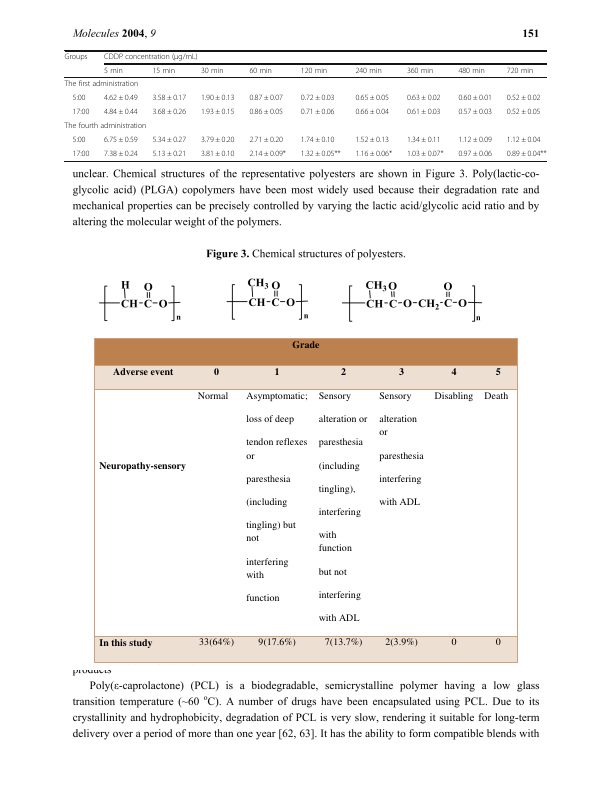bordered: (93, 337, 517, 662)
borderless: (63, 49, 547, 161)
cell: (245, 389, 309, 604), (318, 389, 368, 624), (378, 389, 425, 508), (98, 458, 187, 472), (112, 364, 174, 378), (103, 53, 199, 62), (64, 121, 147, 131), (64, 79, 139, 89), (98, 635, 154, 648), (434, 389, 474, 402), (257, 635, 297, 648), (324, 635, 363, 648), (198, 635, 235, 648), (384, 635, 419, 648), (197, 389, 229, 402), (300, 149, 341, 159), (506, 149, 547, 159), (291, 337, 320, 351), (248, 149, 287, 159), (354, 149, 393, 159), (406, 149, 444, 159), (103, 93, 139, 103), (151, 93, 187, 103), (248, 93, 284, 103), (354, 93, 390, 103), (457, 93, 493, 103), (103, 107, 139, 117), (151, 107, 187, 117), (248, 107, 284, 117), (354, 107, 390, 117), (457, 107, 493, 117), (103, 135, 139, 145), (151, 135, 187, 145), (248, 135, 284, 145), (354, 135, 390, 145), (457, 135, 493, 145), (103, 149, 139, 159), (151, 149, 187, 159), (457, 149, 493, 159), (200, 93, 235, 103), (300, 93, 335, 103), (406, 93, 441, 103), (506, 93, 541, 103), (200, 107, 235, 117), (300, 107, 335, 117), (406, 107, 441, 117), (506, 107, 541, 117), (200, 135, 235, 145), (300, 135, 335, 145), (406, 135, 441, 145), (506, 135, 541, 145), (200, 149, 235, 159), (483, 389, 509, 402), (354, 66, 383, 75), (457, 66, 486, 75), (300, 66, 328, 75), (406, 66, 434, 75), (506, 66, 534, 75), (151, 66, 176, 75), (248, 66, 273, 75), (64, 53, 88, 62), (200, 66, 224, 75), (71, 107, 90, 117), (71, 149, 90, 159), (103, 66, 124, 75), (71, 93, 86, 103), (71, 135, 86, 145), (213, 364, 220, 378), (274, 364, 281, 378), (340, 364, 347, 378), (398, 364, 405, 378), (450, 364, 457, 378), (495, 364, 502, 378), (450, 635, 457, 648), (495, 635, 502, 648)
